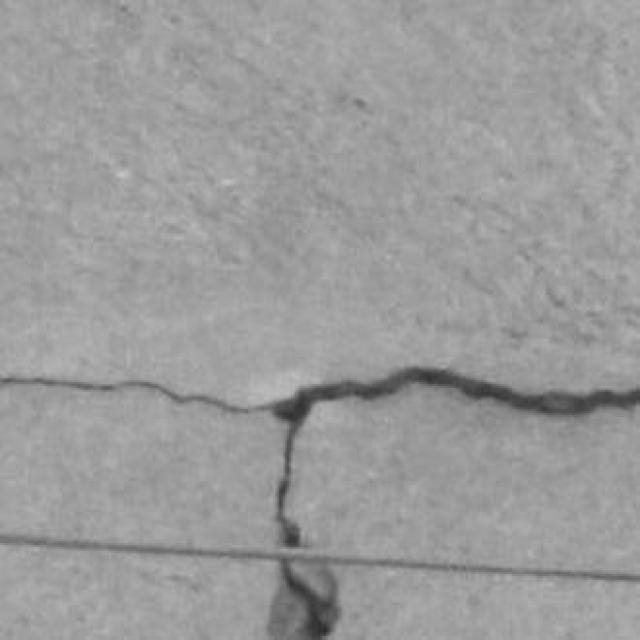crack: (0, 367, 639, 548), (270, 367, 639, 546), (0, 377, 259, 413)
